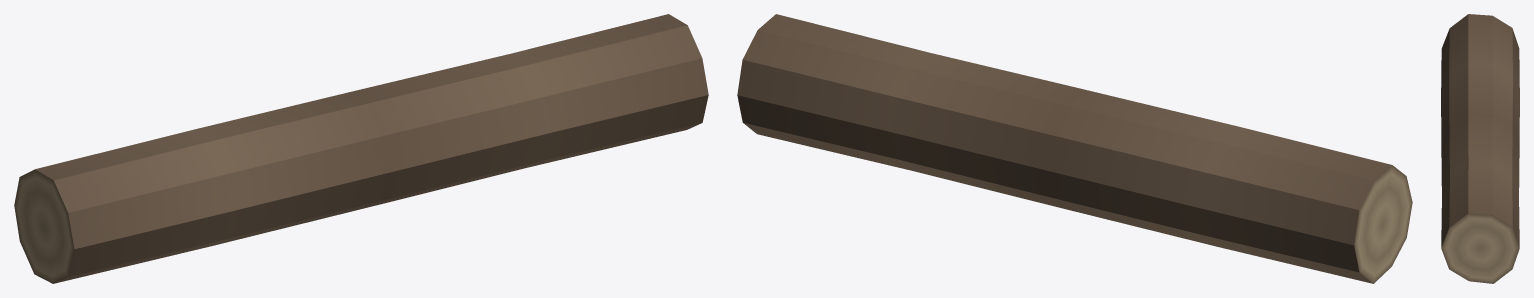
File: rolling_log_a.glb
3 views of the same model, side by side, from view 1: azimuth 30°, elevation 25°; view 2: azimuth 150°, elevation 25°; view 3: azimuth 270°, elevation 25° (orthographic). The views are drawn at different scales.
Parts seen in each view (by area): view 1: rolling_log_a; view 2: rolling_log_a; view 3: rolling_log_a.
Part boxes in pixels (x1,y1,x2,y2): rolling_log_a: (14,14,708,283); rolling_log_a: (737,14,1412,283); rolling_log_a: (1441,14,1519,283).
Bounding box in the file's own units: 2.4 × 0.3971 × 0.4007.
